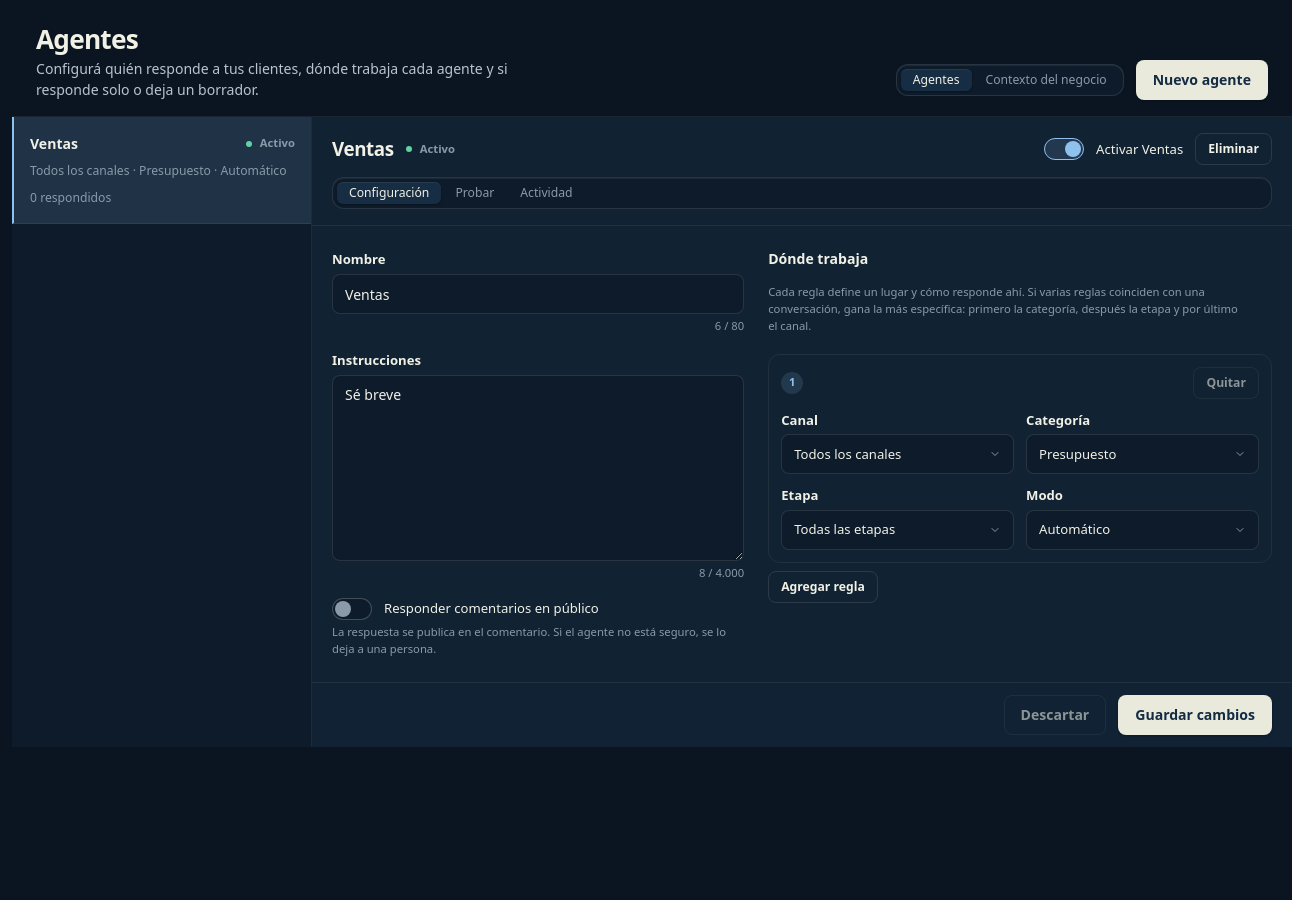
Agents › opens the recent activity and links a run to the conversation
Click the button "Ventas" at (162, 171), box x1=12 y1=117 x2=311 y2=224
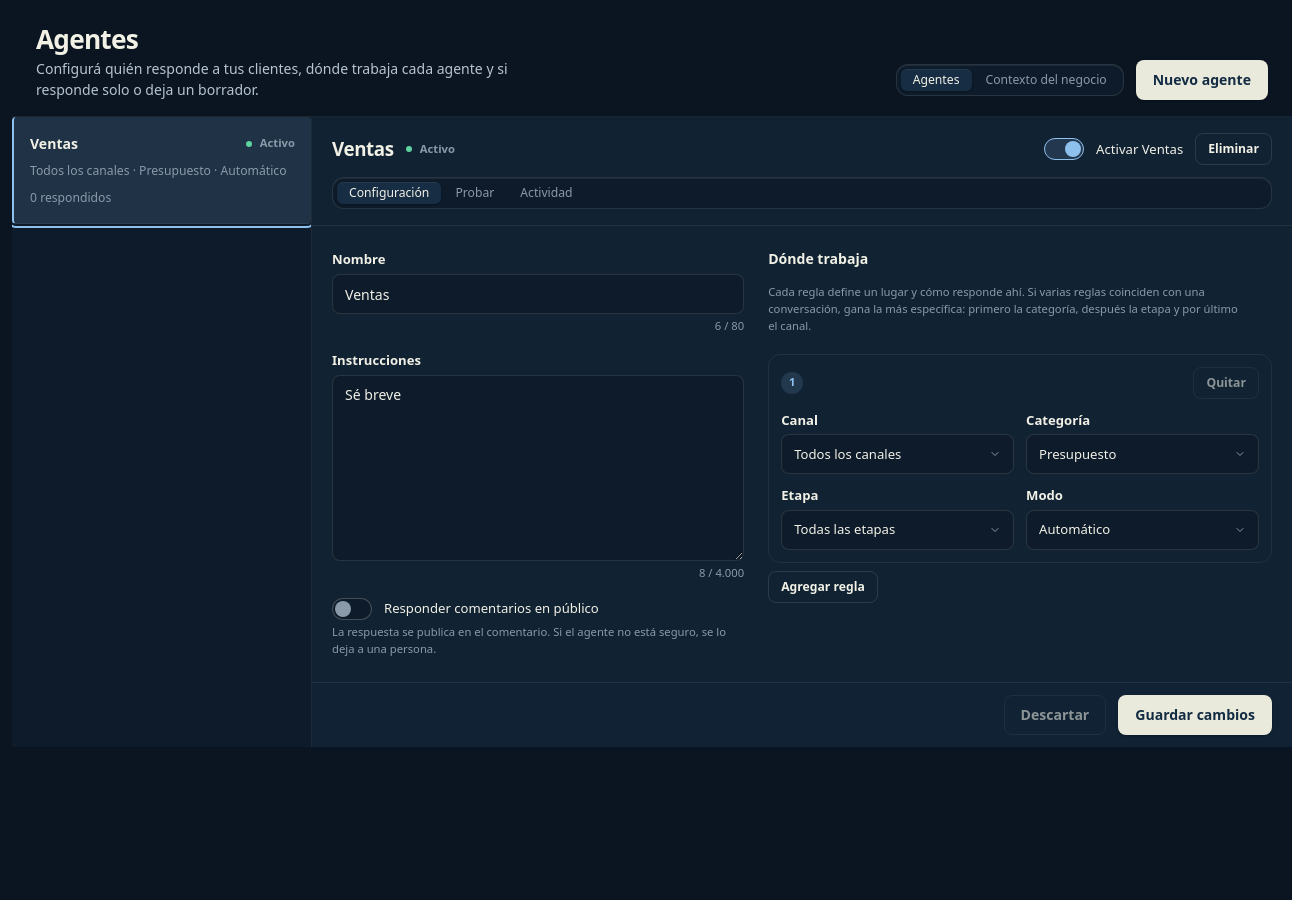
Click the button "Actividad" at (546, 193), box x1=508 y1=182 x2=585 y2=204
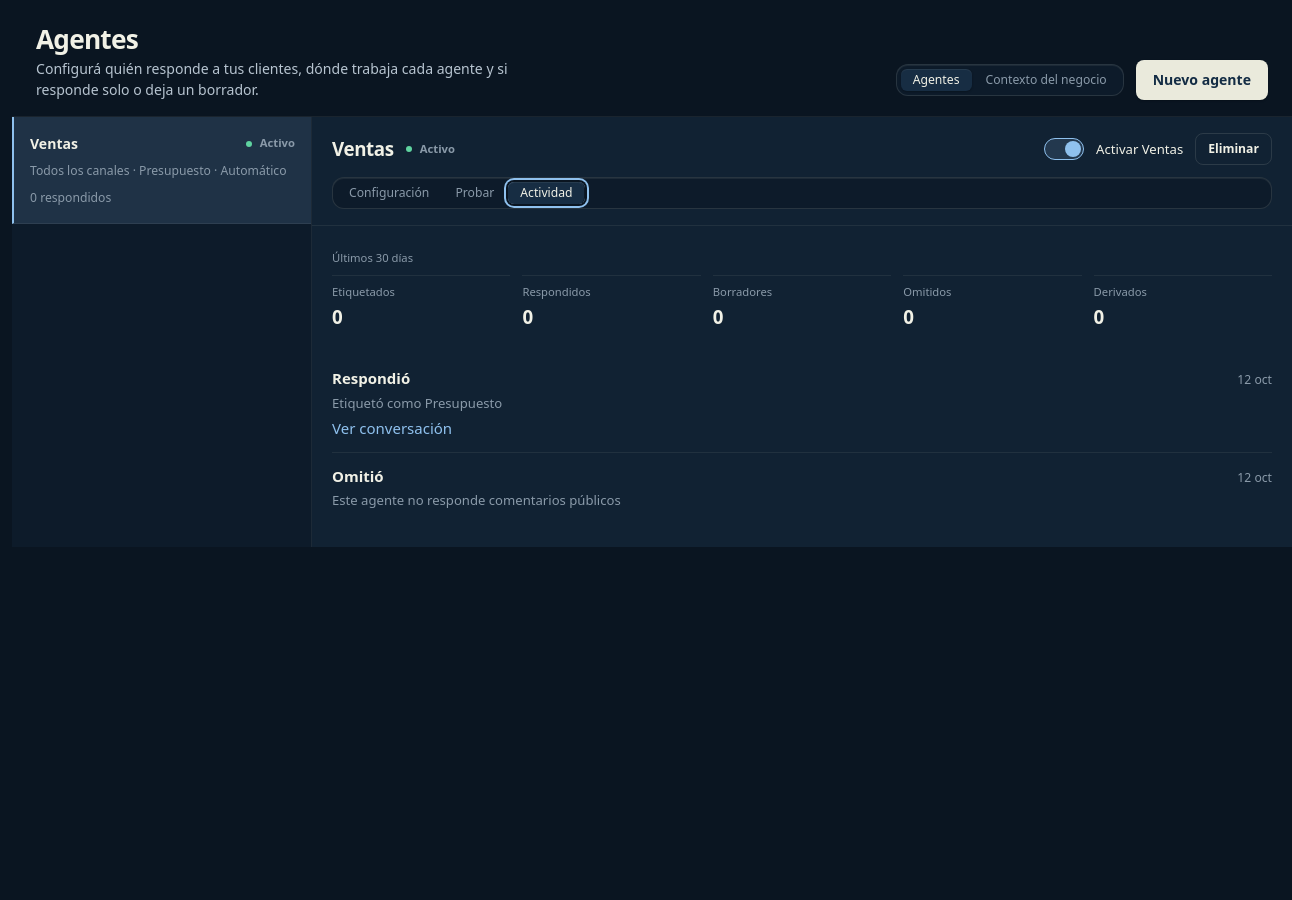
Now the list named "Actividad de Ventas" shows "Respondió", box x1=332 y1=368 x2=410 y2=388
Now the list named "Actividad de Ventas" shows "Etiquetó como Presupuesto", box x1=332 y1=394 x2=502 y2=412
Now the list named "Actividad de Ventas" shows "Este agente no responde comentarios públicos", box x1=332 y1=491 x2=621 y2=509
